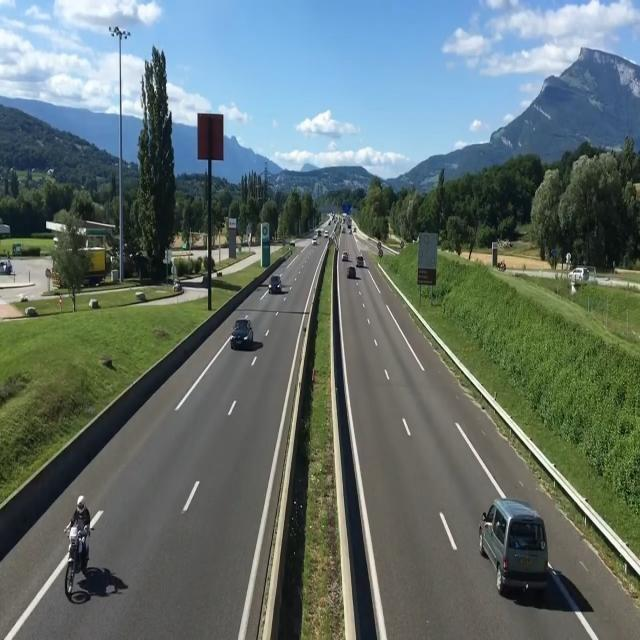Car: (485, 491, 559, 599), (229, 316, 255, 350), (266, 275, 283, 295), (340, 250, 351, 262), (347, 266, 357, 278), (356, 255, 365, 268), (312, 238, 318, 248)
Cycle: (63, 488, 107, 592)
